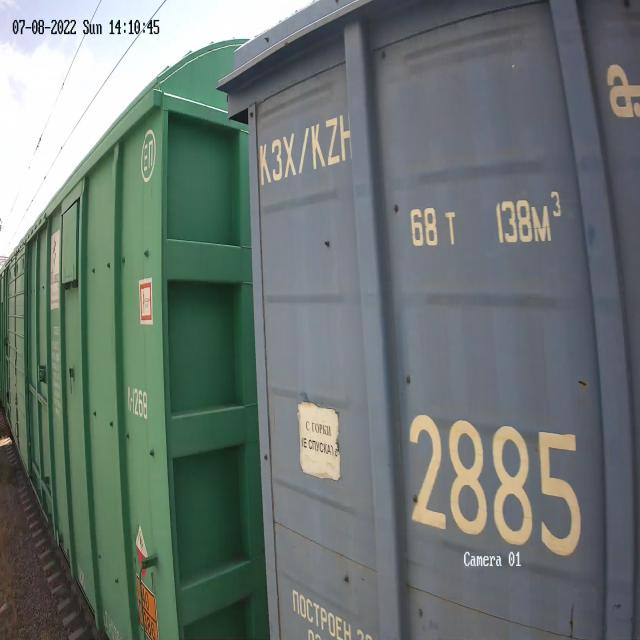boxcar: (212, 0, 640, 639), (0, 15, 258, 640)
